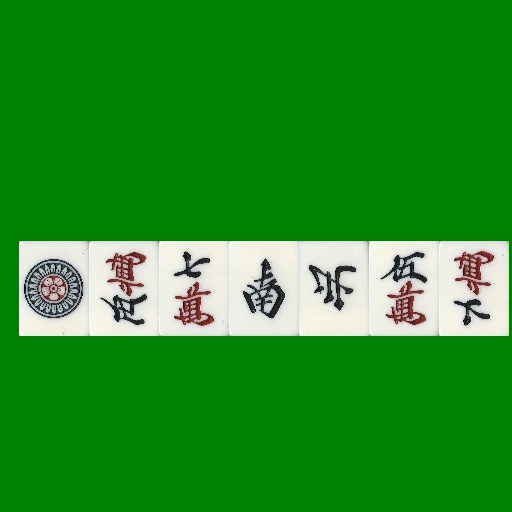1p: (19, 241, 89, 336)
5m: (89, 241, 159, 336), (369, 241, 439, 336)
7m: (159, 241, 229, 336), (439, 241, 509, 336)
north: (299, 241, 369, 336)
south: (229, 241, 299, 336)
